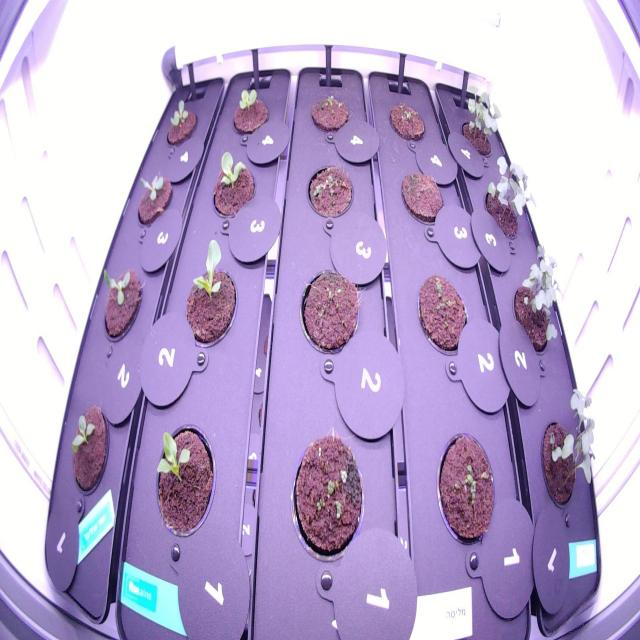germination: (287, 425, 367, 569), (428, 423, 503, 553), (415, 270, 473, 363), (299, 155, 359, 226), (381, 92, 430, 152), (302, 86, 354, 140)
pod: (296, 264, 364, 360), (395, 161, 449, 231)
young: (143, 415, 222, 550), (172, 231, 244, 359), (62, 391, 119, 506), (96, 256, 154, 352), (205, 145, 261, 231), (222, 77, 277, 143), (132, 164, 178, 235), (160, 90, 201, 150)
